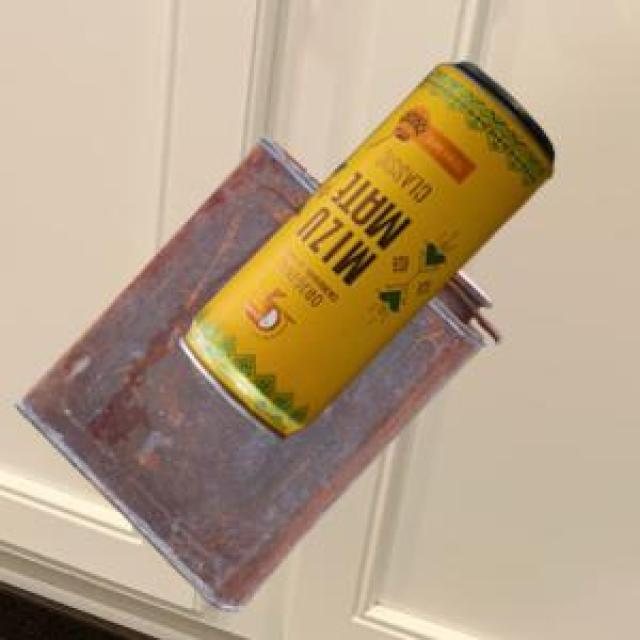Can: (14, 133, 498, 607), (176, 59, 551, 436)
